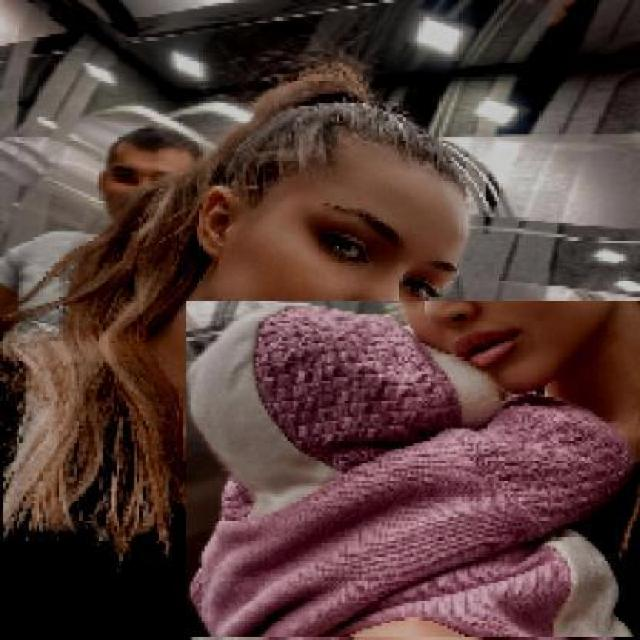child: (185, 299, 640, 638)
